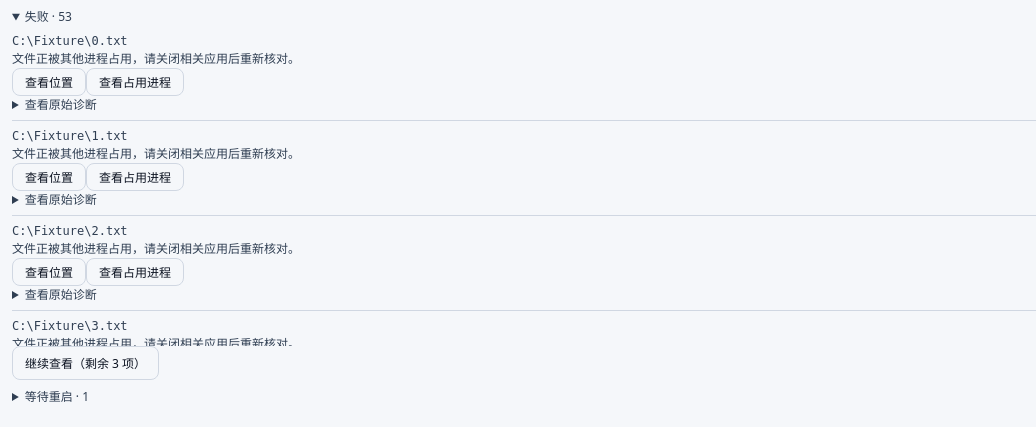
Test: groups results, exposes tail failures and reports location errors safely in zh
Click the button "继续查看（剩余 3 项）": {"x": 86, "y": 363} [12,346,159,380]
(page scrolled)
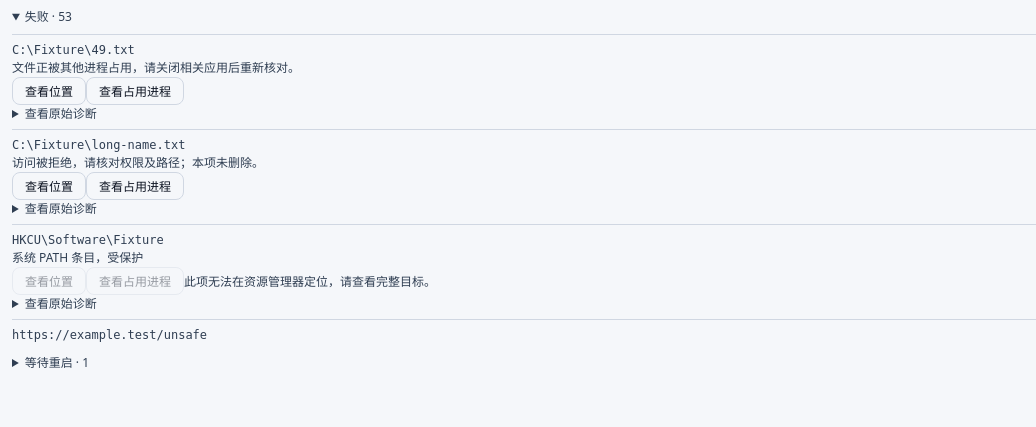
Expected: the text "C:\\Fixture\\long-name.txt" is shown, [12,138,185,152]
Click the button "查看位置" below "C:\\Fixture\\long-name.txt": {"x": 49, "y": 186} [12,172,86,200]
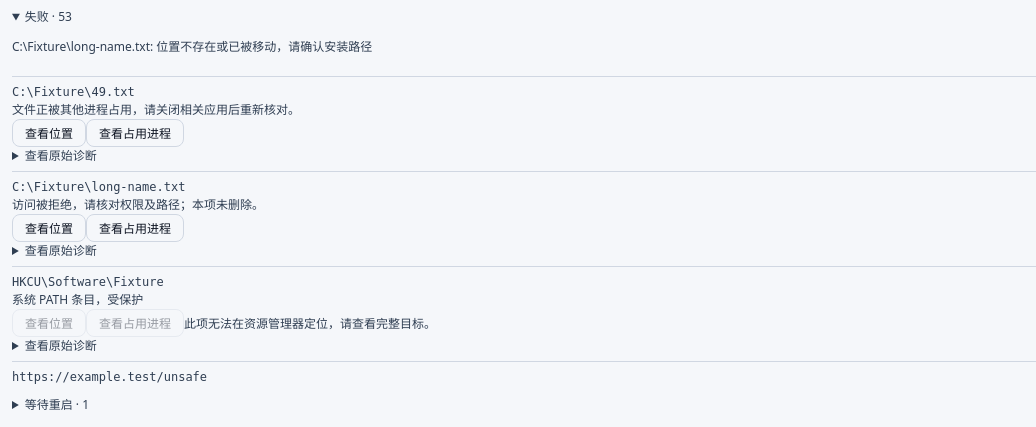
Expected: the text "访问被拒绝，请核对权限及路径；本项未删除。" is shown 2 times
Expected: the message shows "位置不存在或已被移动，请确认安装路径", [12,38,372,55]
